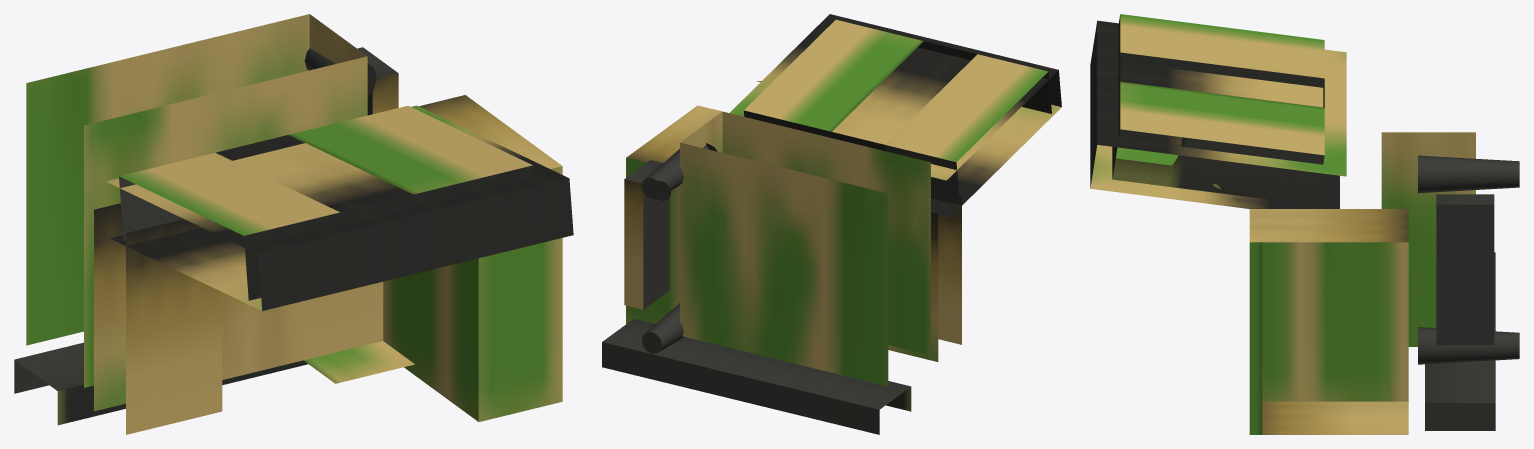
Rendered from section-5.obj.
3 views of the same model, side by side, from view 1: azimuth 30°, elevation 25°; view 2: azimuth 150°, elevation 25°; view 3: azimuth 270°, elevation 25° (orthographic). The views are drawn at different scales.
Bounding box in the file's own units: 0.9123 × 0.7142 × 1.04.
